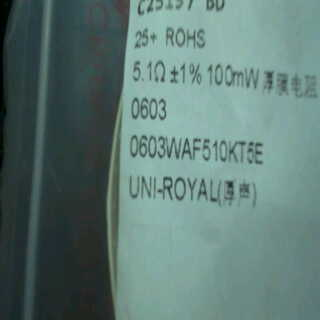5.1R: (131, 56, 170, 87)
